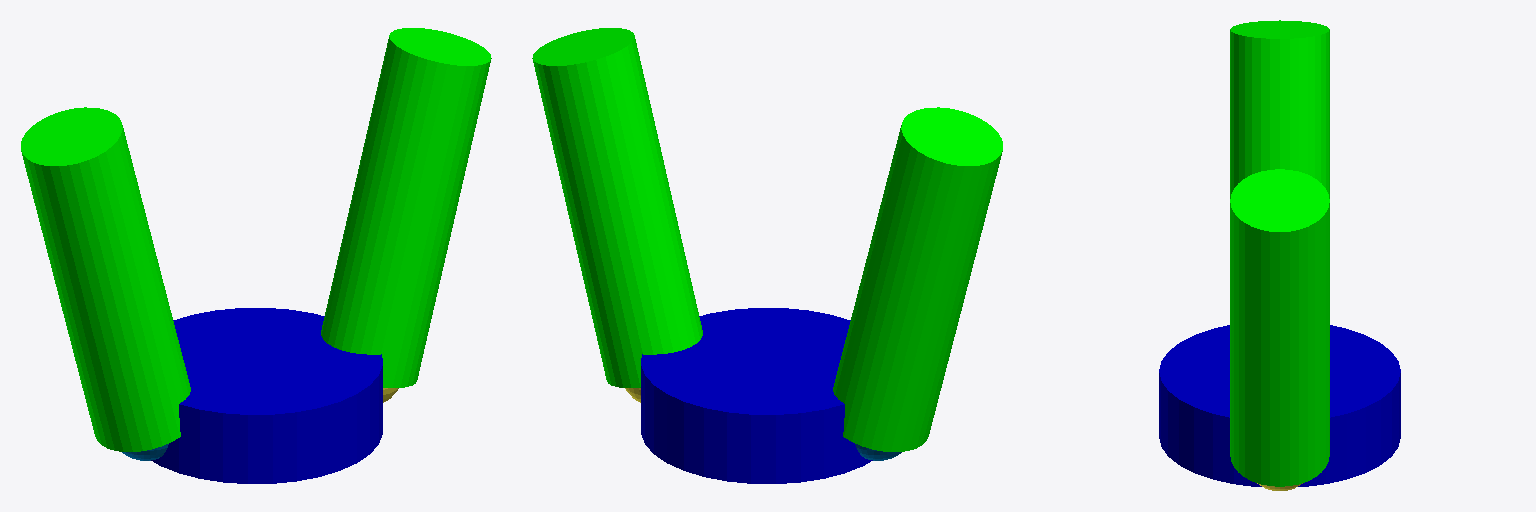
URDF robot description (gripper_2f_1j):
<?xml version='1.0' encoding='UTF-8'?>
<robot name="gripper_2f_1j">
  <link name="palm">
    <inertial>
      <origin xyz="0.0 0.0 0.0" rpy="0.0 -0.0 0.0"/>
      <mass value="1.0"/>
      <inertia ixx="1.0" ixy="0.0" ixz="0.0" iyy="1.0" iyz="0.0" izz="1.0"/>
    </inertial>
    <visual>
      <geometry>
        <cylinder radius="0.05" length="0.03"/>
      </geometry>
      <material name="blue"/>
      <origin xyz="0.0 0.0 0.0" rpy="0.0 -0.0 0.0"/>
    </visual>
    <collision>
      <geometry>
        <cylinder radius="0.05" length="0.03"/>
      </geometry>
      <origin xyz="0.0 0.0 0.0" rpy="0.0 0.0 0.0"/>
    </collision>
  </link>
  <link name="f11">
    <inertial>
      <origin xyz="0.0 0.0 0.0" rpy="0.0 -0.0 0.0"/>
      <mass value="1.0"/>
      <inertia ixx="1.0" ixy="0.0" ixz="0.0" iyy="1.0" iyz="0.0" izz="1.0"/>
    </inertial>
    <visual>
      <geometry>
        <cylinder radius="0.02058400289479507" length="0.13602427519945354"/>
      </geometry>
      <material name="green"/>
      <origin xyz="0.0 0.0 0.06801213759972677" rpy="0.0 -0.0 0.0"/>
    </visual>
    <collision>
      <geometry>
        <cylinder radius="0.02058400289479507" length="0.13602427519945354"/>
      </geometry>
      <origin xyz="0.0 0.0 0.05" rpy="0.0 0.0 0.0"/>
    </collision>
  </link>
  <link name="f21">
    <inertial>
      <origin xyz="0.0 0.0 0.0" rpy="0.0 -0.0 0.0"/>
      <mass value="1.0"/>
      <inertia ixx="1.0" ixy="0.0" ixz="0.0" iyy="1.0" iyz="0.0" izz="1.0"/>
    </inertial>
    <visual>
      <geometry>
        <cylinder radius="0.02058400289479507" length="0.13602427519945354"/>
      </geometry>
      <material name="green"/>
      <origin xyz="0.0 0.0 0.06801213759972677" rpy="0.0 -0.0 0.0"/>
    </visual>
    <collision>
      <geometry>
        <cylinder radius="0.02058400289479507" length="0.13602427519945354"/>
      </geometry>
      <origin xyz="0.0 0.0 0.05" rpy="0.0 0.0 0.0"/>
    </collision>
  </link>
  <link name="f11_base">
    <inertial>
      <origin xyz="0.0 0.0 0.0" rpy="0.0 -0.0 0.0"/>
      <mass value="1.0"/>
      <inertia ixx="1.0" ixy="0.0" ixz="0.0" iyy="1.0" iyz="0.0" izz="1.0"/>
    </inertial>
    <visual>
      <geometry>
        <sphere radius="0.015"/>
      </geometry>
      <origin xyz="0.0 0.0 0.0" rpy="0.0 -0.0 0.0"/>
    </visual>
  </link>
  <link name="f21_base">
    <inertial>
      <origin xyz="0.0 0.0 0.0" rpy="0.0 -0.0 0.0"/>
      <mass value="1.0"/>
      <inertia ixx="1.0" ixy="0.0" ixz="0.0" iyy="1.0" iyz="0.0" izz="1.0"/>
    </inertial>
    <visual>
      <geometry>
        <sphere radius="0.015"/>
      </geometry>
      <origin xyz="0.0 0.0 0.0" rpy="0.0 -0.0 0.0"/>
    </visual>
  </link>
  <joint name="f11_joint" type="revolute">
    <dynamics damping="100.0" friction="1.0"/>
    <limit effort="30.0" velocity="2.0" lower="-0.6" upper="0.25"/>
    <parent link="f11_base"/>
    <child link="f11"/>
    <axis xyz="0. 1. 0."/>
    <origin xyz="0.0 0.0 0.0" rpy="0.0 0.25 0.0"/>
  </joint>
  <joint name="f21_joint" type="revolute">
    <dynamics damping="100.0" friction="1.0"/>
    <limit effort="30.0" velocity="2.0" lower="-0.6" upper="0.25"/>
    <parent link="f21_base"/>
    <child link="f21"/>
    <axis xyz=" 0. -1.  0."/>
    <origin xyz="0.0 0.0 0.0" rpy="0.0 -0.25 0.0"/>
  </joint>
  <joint name="f11_base_joint" type="fixed">
    <parent link="palm"/>
    <child link="f11_base"/>
    <axis xyz="1. 0. 0."/>
    <origin xyz="0.05 0.0 0.0" rpy="0.0 0.0 0.0"/>
  </joint>
  <joint name="f21_base_joint" type="fixed">
    <parent link="palm"/>
    <child link="f21_base"/>
    <axis xyz="1. 0. 0."/>
    <origin xyz="-0.05 -0.0 0.0" rpy="0.0 0.0 0.0"/>
  </joint>
  <material name="blue">
    <color rgba="0.  0.  0.8 1. "/>
  </material>
  <material name="green">
    <color rgba="0. 1. 0. 1."/>
  </material>
</robot>

--- Facts derived from the render (not from the file) ---
3 views of the same robot in one strip: view 1: azimuth 30°, elevation 25°; view 2: azimuth 150°, elevation 25°; view 3: azimuth 270°, elevation 25° (orthographic).
Robot: gripper_2f_1j — 5 links, 4 joints (2 revolute, 2 fixed); root link palm; default pose: every joint at zero.
Visible links, largest first — view 1: f11, f21, palm; view 2: f11, f21, palm; view 3: f11, palm, f21.
Link boxes in pixels (x1,y1,x2,y2): f11: (321,28,491,387); f21: (21,107,190,451); palm: (151,308,382,483); f11: (532,28,702,387); f21: (833,107,1002,451); palm: (641,308,872,483); f11: (1230,169,1329,486); palm: (1159,325,1400,486); f21: (1230,20,1329,198).
Size in the robot's own frame: 0.2072 by 0.1 by 0.1519 metres.
Geometry: primitives only (box / cylinder / sphere), no mesh files.